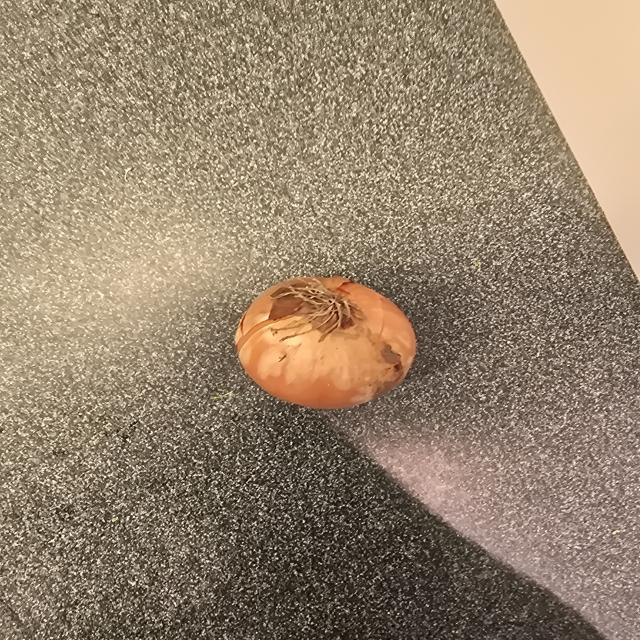Onion: (235, 277, 416, 408)
